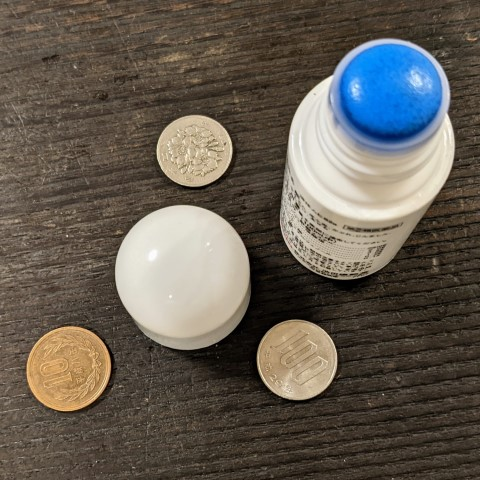100yen: (257, 320, 338, 401), (156, 115, 233, 188)
10yen: (26, 326, 111, 413)
